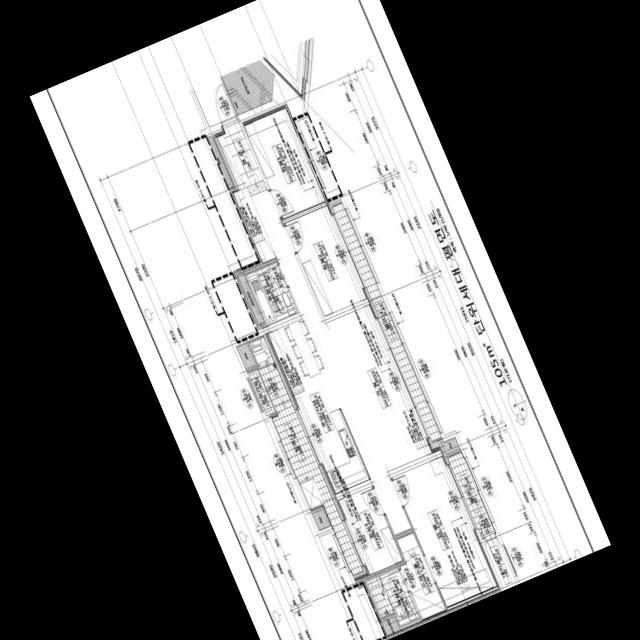background: (29, 0, 611, 640)
space_balconi: (247, 334, 363, 575), (331, 201, 442, 442), (447, 451, 496, 538)
space_bedroom: (391, 454, 501, 613), (242, 103, 327, 218), (285, 204, 367, 315), (336, 485, 403, 575)
space_dressroom: (395, 531, 448, 623)
space_front: (215, 118, 276, 263)
space_kitchen: (266, 317, 369, 493)
space_living_room: (251, 189, 433, 534)
space_other: (233, 267, 265, 329), (484, 537, 517, 590), (221, 67, 260, 107), (206, 135, 230, 184), (244, 59, 273, 95), (379, 615, 401, 639), (236, 341, 255, 368), (229, 94, 250, 114), (311, 508, 329, 530), (440, 436, 460, 454), (263, 92, 271, 103)
space_outdoor_room: (246, 367, 275, 415)
space_toilet: (245, 261, 298, 325), (365, 566, 419, 625)
